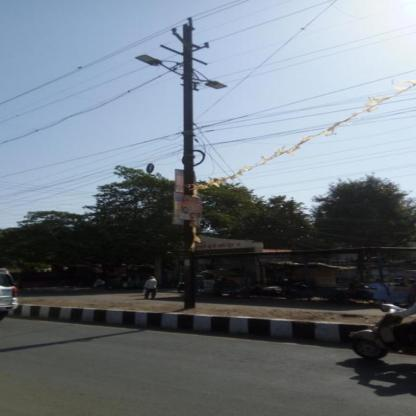Electrical Pole: (141, 16, 237, 312)
